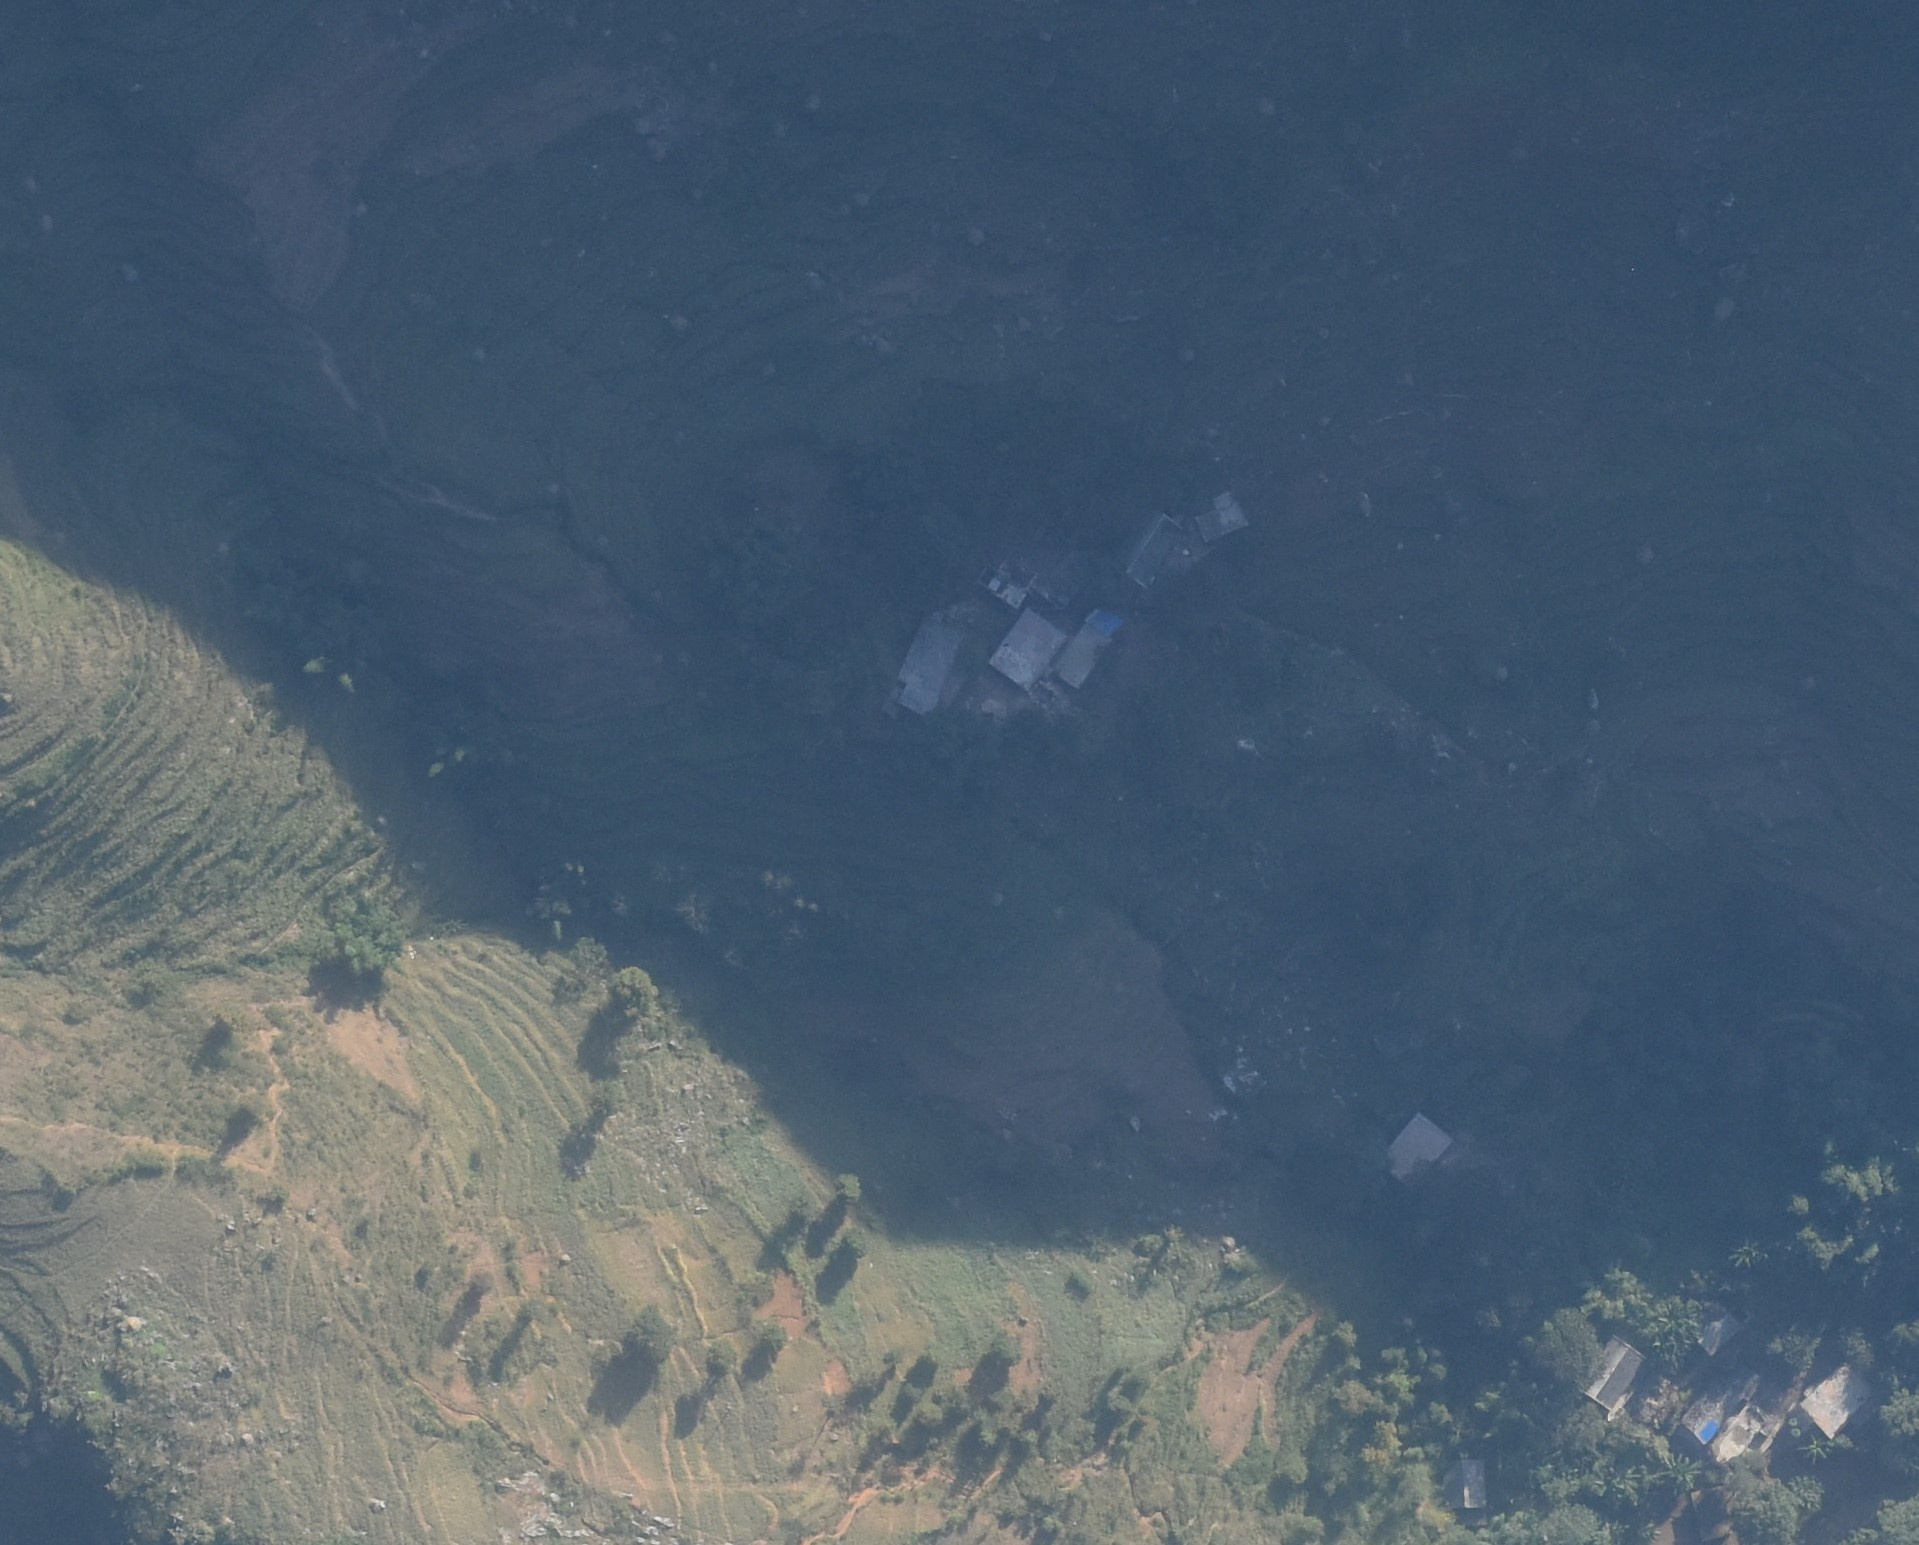building: (897, 616, 965, 716), (1798, 1360, 1873, 1442), (988, 609, 1066, 685), (1054, 605, 1122, 689), (1381, 1114, 1453, 1185), (1127, 511, 1189, 590), (1585, 1332, 1643, 1413), (978, 553, 1040, 613), (1697, 1306, 1752, 1354), (1196, 493, 1248, 541), (1442, 1458, 1486, 1510), (1690, 1487, 1730, 1542)
